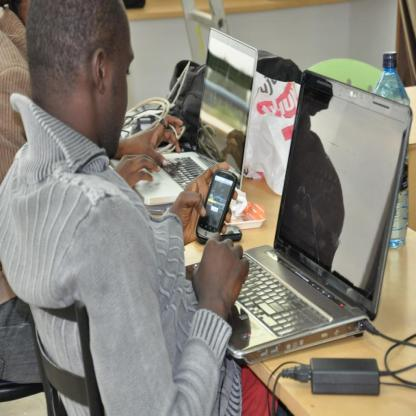board: (224, 68, 416, 390), (110, 27, 260, 209), (372, 53, 410, 250)
